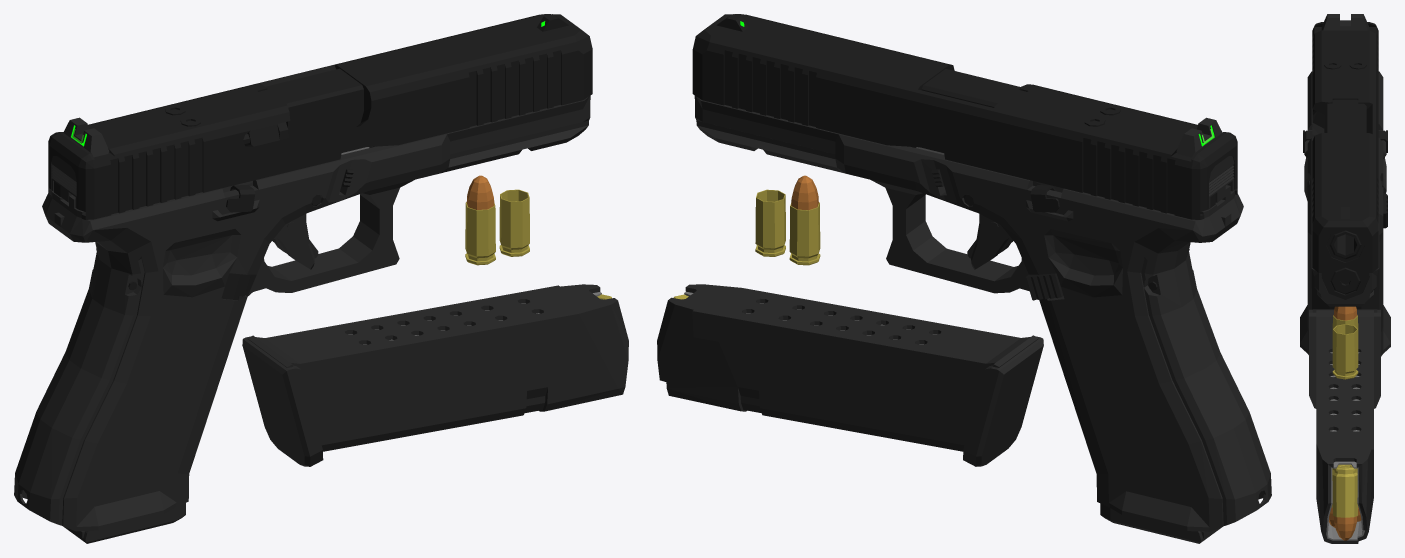
File: pistol.glb
The picture shows the model from 3 angles, left to right: view 1: azimuth 30°, elevation 25°; view 2: azimuth 150°, elevation 25°; view 3: azimuth 270°, elevation 25°; orthographic projection. The views are drawn at different scales.
Parts seen in each view (by area): view 1: g17g5 frame_3, g17 17rnd mag_2, g17g5mos slide_0, g17g5mos cover_8, g17 barrel threaded_1, 919 case_6, Object_22, g17 17rnd empty mag_4, g17 trigga_9, Object_23; view 2: g17g5 frame_3, g17 17rnd mag_2, g17g5mos slide_0, g17g5mos cover_8, g17 barrel threaded_1, 919 case_6, Object_22, g17 trigga_9, g17 17rnd empty mag_4, Object_23; view 3: g17 17rnd mag_2, g17g5mos slide_0, g17g5 frame_3, g17g5mos cover_8, g17 barrel threaded_1, 919 case_6, Object_23, g17g5 slide stop_10, Object_22.
Part boxes in pixels (x1,y1,x2,y2): g17g5 frame_3: [14, 96, 590, 531]; g17 17rnd mag_2: [242, 284, 628, 466]; g17g5mos slide_0: [48, 14, 592, 219]; g17g5mos cover_8: [88, 91, 263, 165]; g17 barrel threaded_1: [259, 68, 363, 138]; 919 case_6: [499, 189, 529, 256]; Object_22: [465, 202, 495, 265]; g17 17rnd empty mag_4: [64, 181, 252, 543]; g17 trigga_9: [272, 214, 318, 269]; Object_23: [466, 175, 494, 209]; g17g5 frame_3: [695, 96, 1271, 531]; g17 17rnd mag_2: [657, 284, 1043, 466]; g17g5mos slide_0: [692, 14, 1237, 219]; g17g5mos cover_8: [1021, 91, 1197, 165]; g17 barrel threaded_1: [921, 69, 1026, 107]; 919 case_6: [755, 189, 785, 256]; Object_22: [789, 202, 820, 265]; g17 trigga_9: [967, 214, 1013, 269]; g17 17rnd empty mag_4: [1033, 181, 1221, 543]; Object_23: [791, 175, 818, 210]; g17 17rnd mag_2: [1309, 309, 1380, 543]; g17g5mos slide_0: [1312, 14, 1378, 299]; g17g5 frame_3: [1300, 71, 1390, 356]; g17g5mos cover_8: [1312, 32, 1378, 97]; g17 barrel threaded_1: [1324, 99, 1366, 262]; 919 case_6: [1332, 324, 1358, 379]; Object_23: [1333, 306, 1357, 320]; g17g5 slide stop_10: [1303, 130, 1387, 152]; Object_22: [1332, 315, 1358, 336].
Size of the model in its own units: 2.18 by 1.38 by 0.3481.
